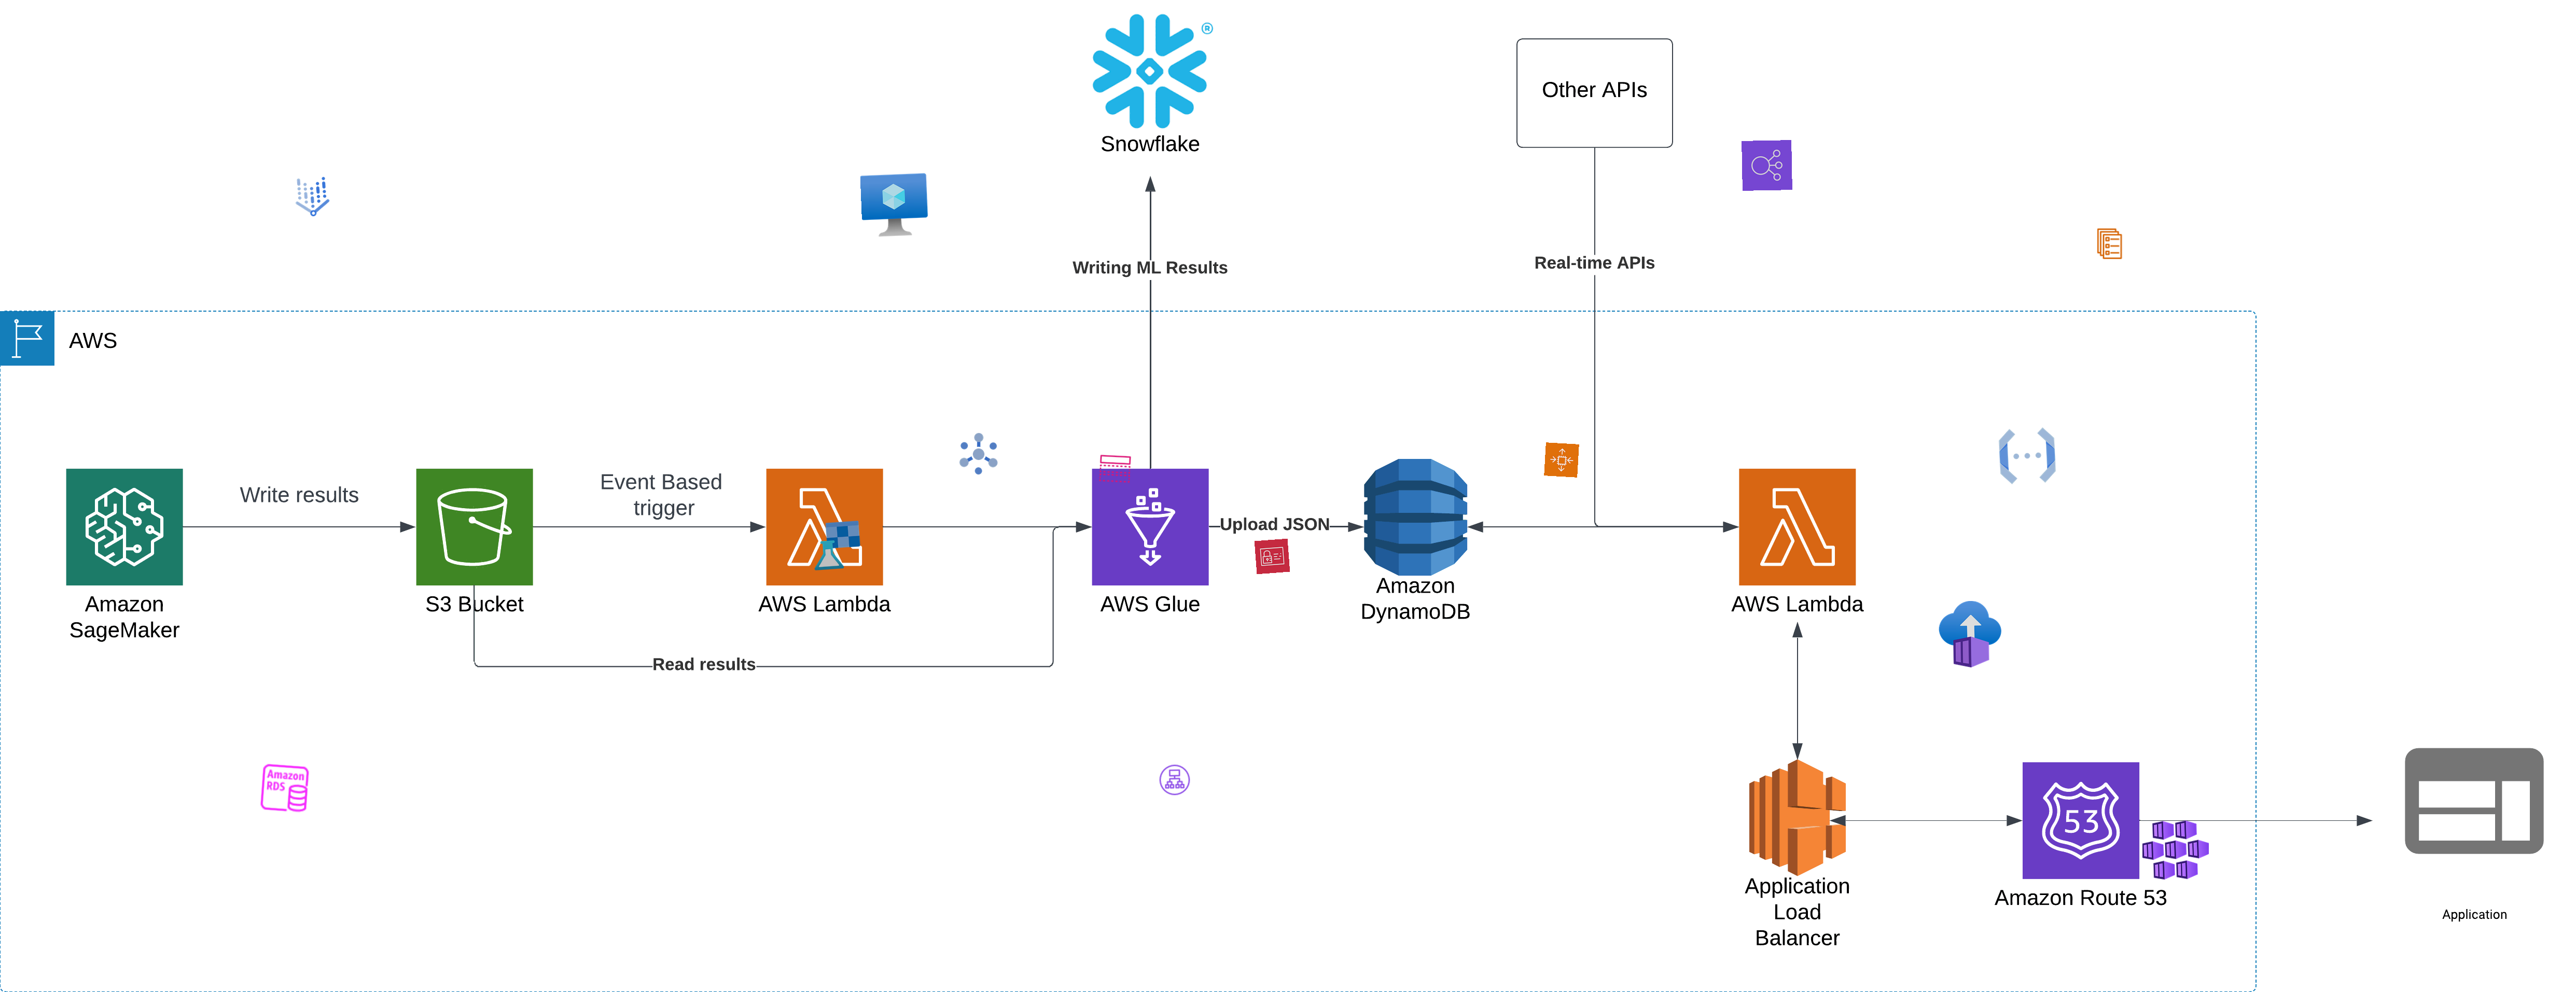aws_amazon_ec2_auto_scaling: (1544, 442, 1579, 478)
aws_aurora_amazon_rds_instance: (258, 760, 312, 815)
aws_elastic_container_service_service: (2093, 227, 2127, 261)
aws_elastic_load_balancing: (1741, 140, 1792, 191)
aws_elastic_load_balancing_application_load_balancer: (1158, 762, 1191, 797)
aws_identity_and_access_management: (1253, 539, 1290, 575)
aws_simple_notification_service_topic: (1097, 452, 1132, 486)
azure_container_instances: (1935, 599, 2004, 668)
azure_kubernetes_services: (2141, 815, 2210, 884)
azure_machine_learning_studio_workspaces: (810, 519, 864, 573)
azure_virtual_machine: (859, 172, 930, 241)
gcp_cloud_functions: (1993, 420, 2062, 491)
gcp_pubsub: (953, 429, 1004, 480)
gcp_vertex_ai: (286, 171, 338, 223)
